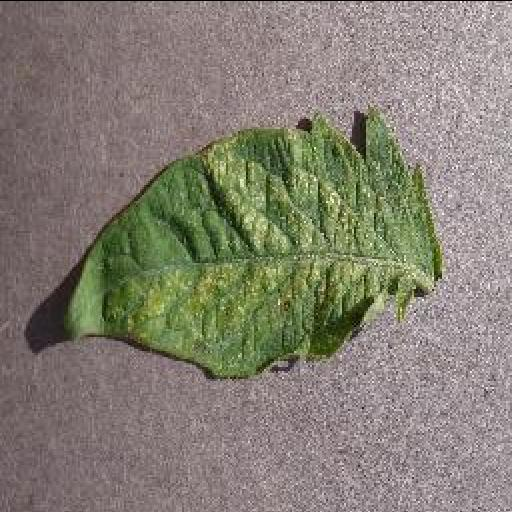disease_tomato: (62, 106, 440, 380)
